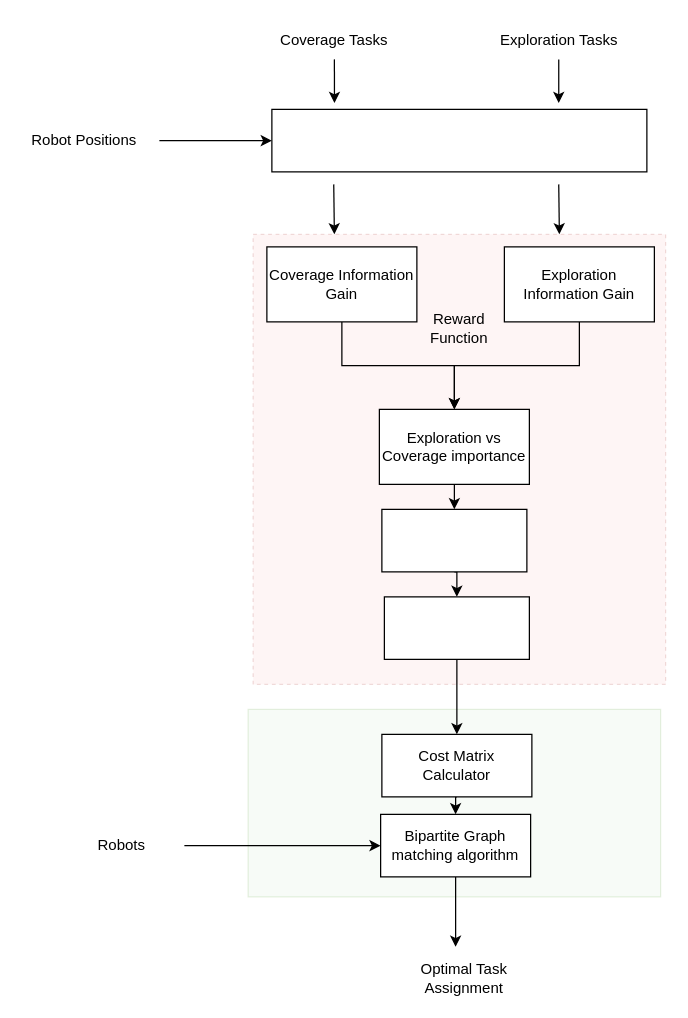
Some shapes in this 688 by 1018 pixel diagram are drawn without their labels. Here are the shapes that lost their labels. From the top down, the centre of each, then its label:
(x=459, y=140): Filter n closest tasks to each robot
(x=454, y=540): Task Utility
(x=456, y=627): Action cost
